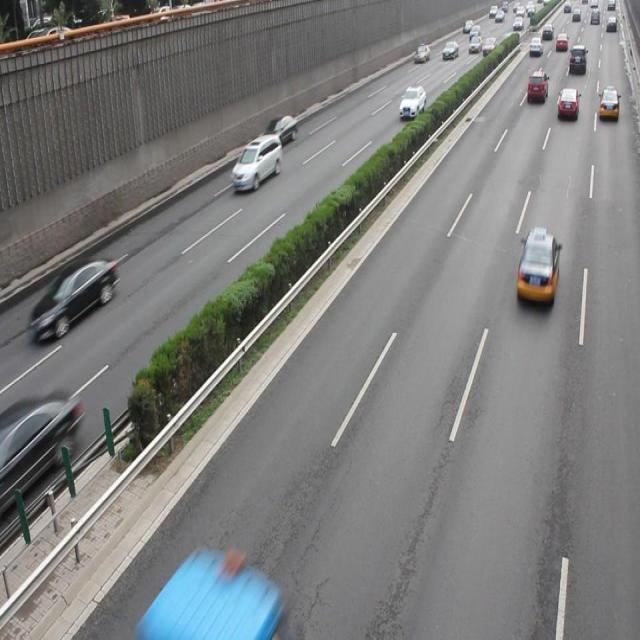car: (1, 388, 82, 504), (30, 256, 118, 341), (514, 229, 559, 307), (262, 115, 297, 148), (397, 85, 425, 119)
truck: (232, 134, 281, 192)
